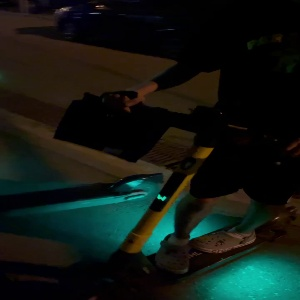human on a scooter: (52, 1, 300, 298)
